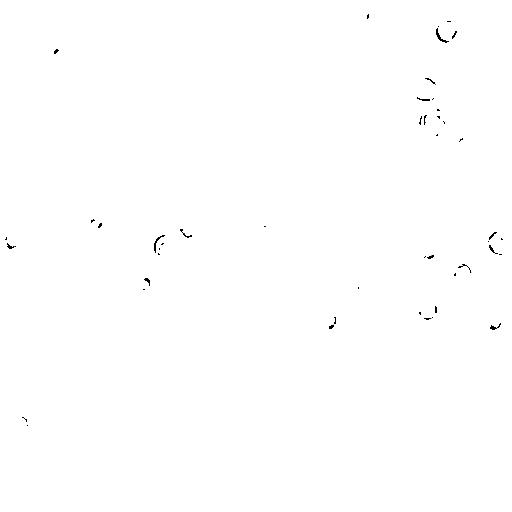micro-algae: (63, 111, 166, 221), (35, 71, 115, 151), (225, 0, 320, 67), (366, 43, 445, 119), (317, 470, 417, 511), (432, 85, 487, 144), (80, 261, 125, 307), (225, 240, 270, 283), (224, 0, 267, 40), (146, 130, 180, 167), (41, 39, 72, 76), (336, 430, 369, 463), (247, 407, 279, 440), (418, 106, 450, 139), (201, 133, 236, 162), (152, 233, 182, 264), (393, 285, 421, 318), (487, 227, 512, 256), (452, 134, 481, 158), (413, 76, 439, 102), (435, 19, 459, 44), (206, 406, 230, 431), (139, 255, 163, 280), (225, 127, 250, 151), (176, 174, 200, 198), (317, 309, 340, 333), (318, 15, 341, 38), (418, 297, 440, 321), (452, 260, 473, 285), (454, 59, 476, 82), (10, 414, 31, 435), (86, 213, 107, 233), (4, 231, 24, 251), (482, 312, 503, 331), (252, 222, 273, 241), (38, 280, 58, 299), (489, 118, 509, 137), (33, 499, 61, 512), (2, 149, 12, 185), (176, 222, 198, 238), (352, 5, 371, 23), (458, 468, 477, 486), (422, 244, 438, 261), (247, 241, 264, 257), (137, 275, 152, 292), (346, 279, 362, 294)
